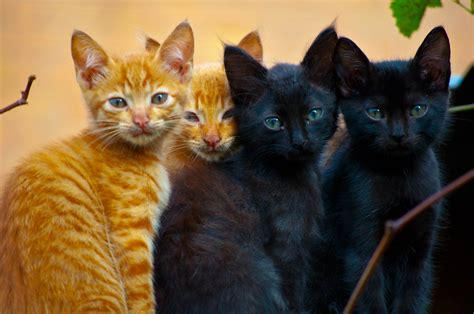cat: (1, 24, 194, 314), (153, 26, 338, 314), (335, 26, 449, 314), (147, 31, 264, 163)
